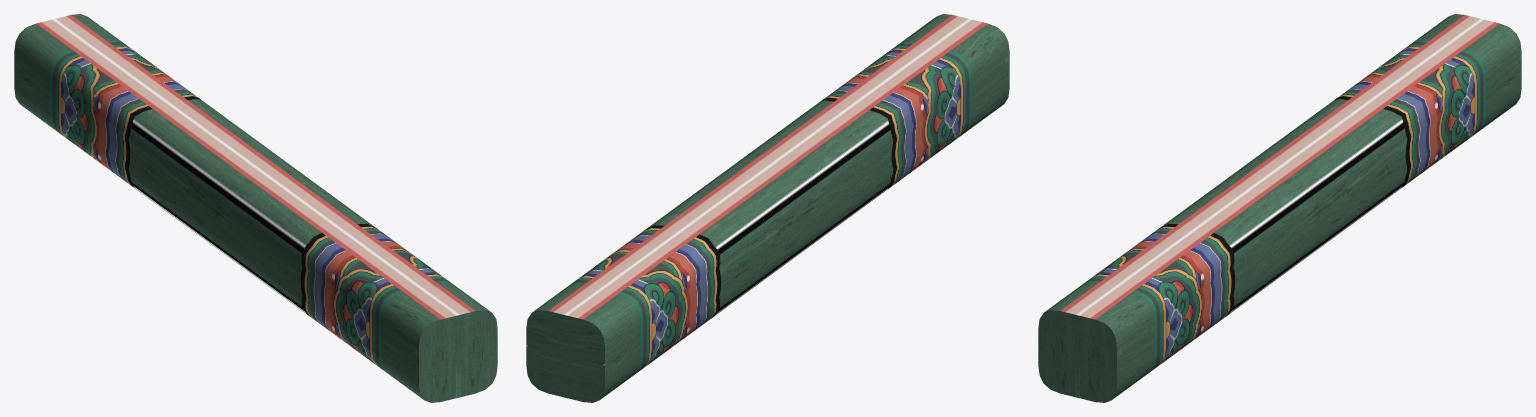
The model's file is SM_CGJ_Lintel03d.fbx.
The picture shows the model from 3 angles, left to right: view 1: azimuth 30°, elevation 25°; view 2: azimuth 150°, elevation 25°; view 3: azimuth 330°, elevation 25°; orthographic projection.
Parts seen in each view (by area): view 1: SM_CGJ_Lintel03d; view 2: SM_CGJ_Lintel03d; view 3: SM_CGJ_Lintel03d.
Boxes of the visible parts, x1,y1,x2,y2 form: SM_CGJ_Lintel03d: (14, 14, 497, 402); SM_CGJ_Lintel03d: (526, 14, 1009, 402); SM_CGJ_Lintel03d: (1038, 14, 1521, 402).
Size of the model in its own units: 22.5 by 200 by 22.5.
1 material, 1 textured.
